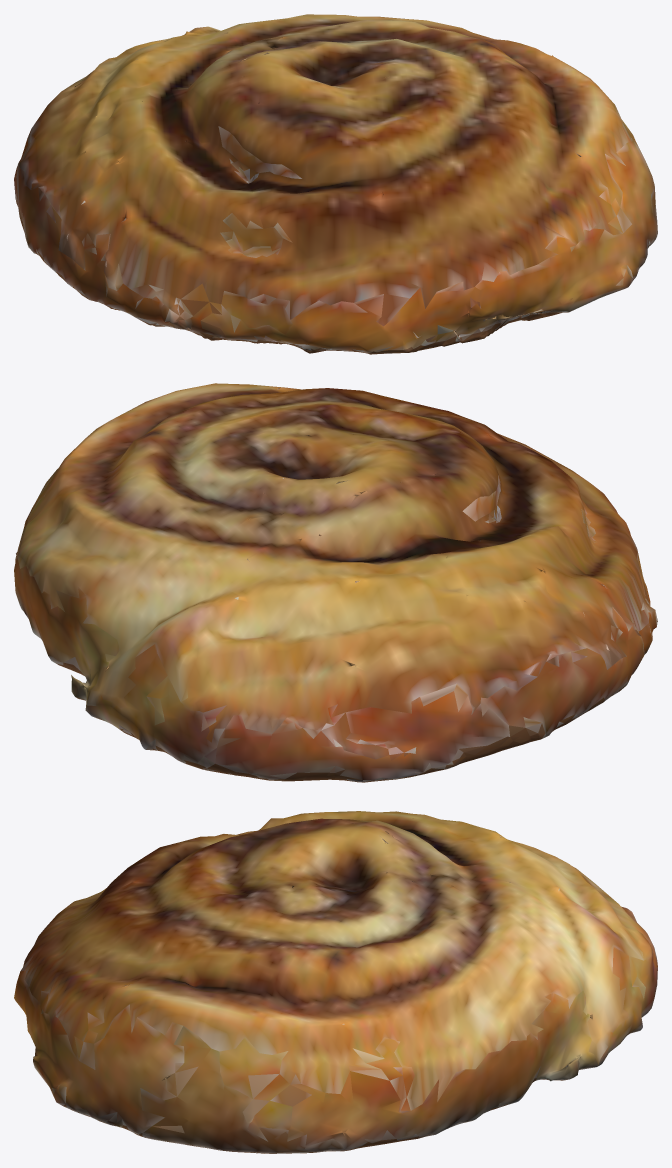
The model's file is cinnamon_6334.obj.
3 views of the same model, one above another, from view 1: azimuth 30°, elevation 25°; view 2: azimuth 150°, elevation 25°; view 3: azimuth 270°, elevation 25° (orthographic). The views are drawn at different scales.
Bounding box in the file's own units: 110 × 33.98 × 115.
1 material, 1 textured.
